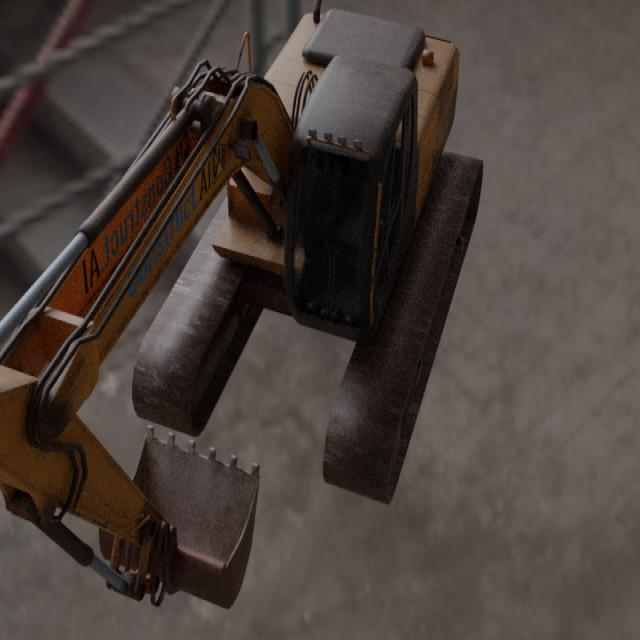excavator: (0, 0, 485, 611)
